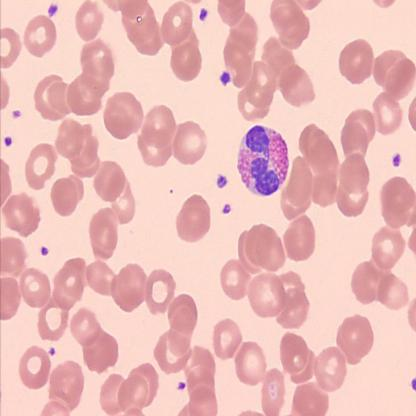Eosinophil: (236, 125, 291, 195)
